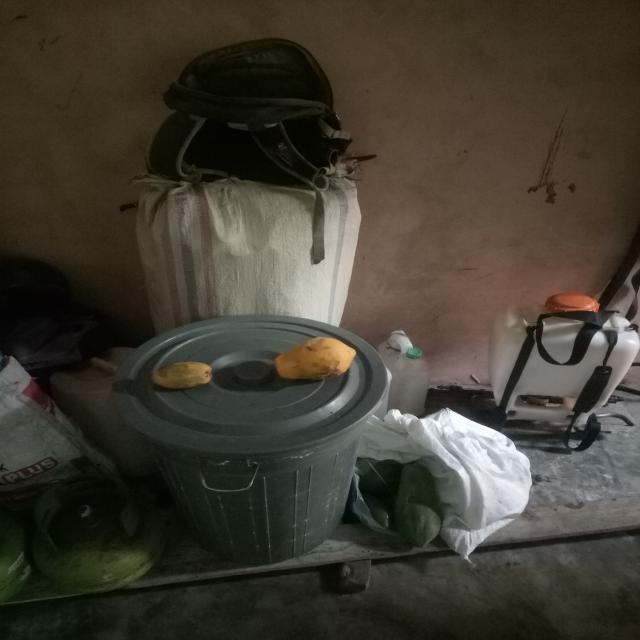Pepaya rippen: (263, 330, 360, 384), (148, 357, 218, 395)
